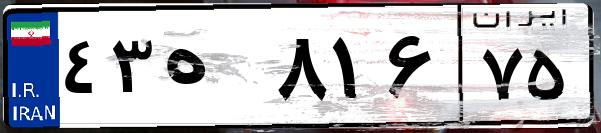1: (330, 28, 385, 110)
3: (110, 28, 158, 98)
4: (57, 26, 110, 100)
5: (525, 38, 570, 115)
6: (385, 28, 445, 110)
7: (475, 38, 525, 113)
8: (270, 28, 330, 110)
ه: (158, 20, 270, 120)
